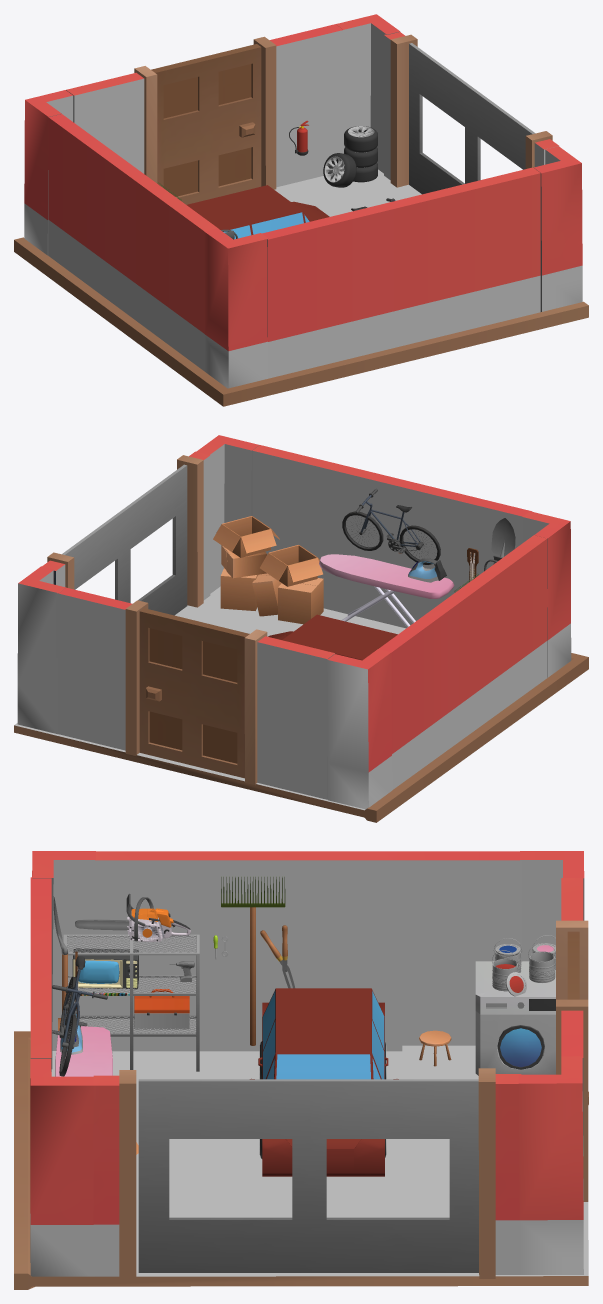
Rendered from GARAJE.fbx.
3 views of the same model, one above another, from view 1: azimuth 30°, elevation 25°; view 2: azimuth 150°, elevation 25°; view 3: azimuth 270°, elevation 25° (orthographic). The views are drawn at different scales.
Parts seen in each view (by area): view 1: paret_basica26, paret_basica24, paret_puerta46, puerta20, suelo6, paret_esquina36, puerta_garaje5, paret_esquina31, paret_garaje3, paret_esquina35, paret_esquina_74, cotche1 (+1 smaller); view 2: paret_puerta46, paret_basica24, paret_basica26, puerta20, suelo6, paret_esquina_74, puerta_garaje5, cajas1, paret_esquina35, paret_garaje3, paret_esquina31, paret_esquina36 (+4 smaller); view 3: paret_basica24, puerta_garaje5, suelo6, paret_garaje3, cotche1, paret_esquina35, paret_esquina31, lavadora1, paret_esquina36, paret_puerta46, estanteria3, paret_esquina_74 (+11 smaller).
Boxes of the visible parts, left/top/right/bottom form: paret_basica26: left=262, top=167, right=540, bottom=378; paret_basica24: left=47, top=114, right=217, bottom=371; paret_puerta46: left=66, top=24, right=346, bottom=189; puerta20: left=151, top=44, right=261, bottom=204; suelo6: left=14, top=169, right=588, bottom=406; paret_esquina36: left=204, top=228, right=268, bottom=388; puerta_garaje5: left=409, top=43, right=535, bottom=194; paret_esquina31: left=534, top=146, right=582, bottom=311; paret_garaje3: left=384, top=32, right=558, bottom=187; paret_esquina35: left=336, top=14, right=400, bottom=173; paret_esquina_74: left=24, top=90, right=73, bottom=255; cotche1: left=187, top=185, right=329, bottom=239; paret_puerta46: left=56, top=587, right=335, bottom=799; paret_basica24: left=379, top=535, right=547, bottom=789; paret_basica26: left=252, top=445, right=531, bottom=628; puerta20: left=139, top=608, right=249, bottom=778; suelo6: left=14, top=586, right=588, bottom=822; paret_esquina_74: left=327, top=649, right=392, bottom=809; puerta_garaje5: left=62, top=464, right=187, bottom=615; cajas1: left=213, top=516, right=323, bottom=624; paret_esquina35: left=17, top=566, right=66, bottom=734; paret_garaje3: left=42, top=451, right=210, bottom=607; paret_esquina31: left=196, top=435, right=259, bottom=593; paret_esquina36: left=522, top=511, right=571, bottom=677; paret_basica24: left=95, top=851, right=522, bottom=1051; puerta_garaje5: left=138, top=1079, right=478, bottom=1272; suelo6: left=14, top=1031, right=588, bottom=1289; paret_garaje3: left=93, top=1068, right=521, bottom=1280; cotche1: left=250, top=988, right=398, bottom=1176; paret_esquina35: left=518, top=1056, right=583, bottom=1274; paret_esquina31: left=30, top=1058, right=94, bottom=1276; lavadora1: left=475, top=961, right=555, bottom=1075; paret_esquina36: left=32, top=851, right=95, bottom=1068; paret_puerta46: left=556, top=878, right=588, bottom=1201; estanteria3: left=63, top=934, right=199, bottom=1071; paret_esquina_74: left=520, top=851, right=584, bottom=961.
Bounding box in the file's own units: 895 × 357 × 892.
